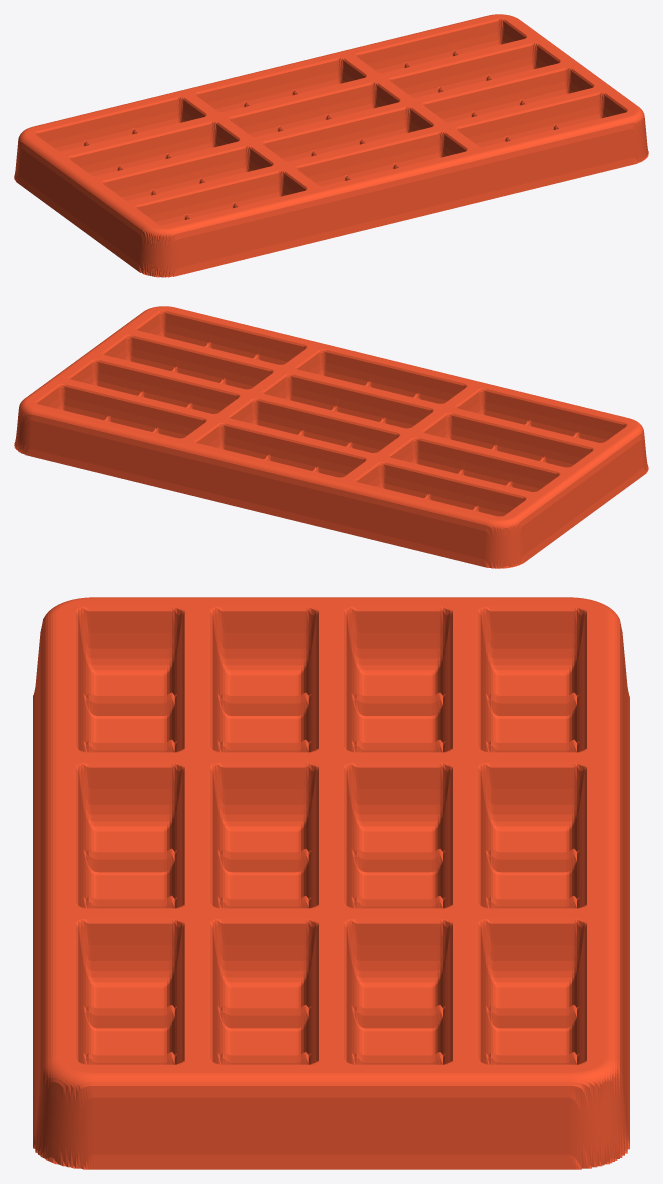
File: mold.glb
The picture shows the model from 3 angles, top to bottom: view 1: azimuth 30°, elevation 25°; view 2: azimuth 150°, elevation 25°; view 3: azimuth 270°, elevation 25°; orthographic projection. The views are drawn at different scales.
Visible parts, largest first — view 1: geometry_0; view 2: geometry_0; view 3: geometry_0.
Boxes of the visible parts, <box> form: geometry_0: <box>14,14,648,277</box>; geometry_0: <box>14,306,648,568</box>; geometry_0: <box>33,597,629,1169</box>.
Bounding box in the file's own units: 0.1768 × 0.0145 × 0.0903.
